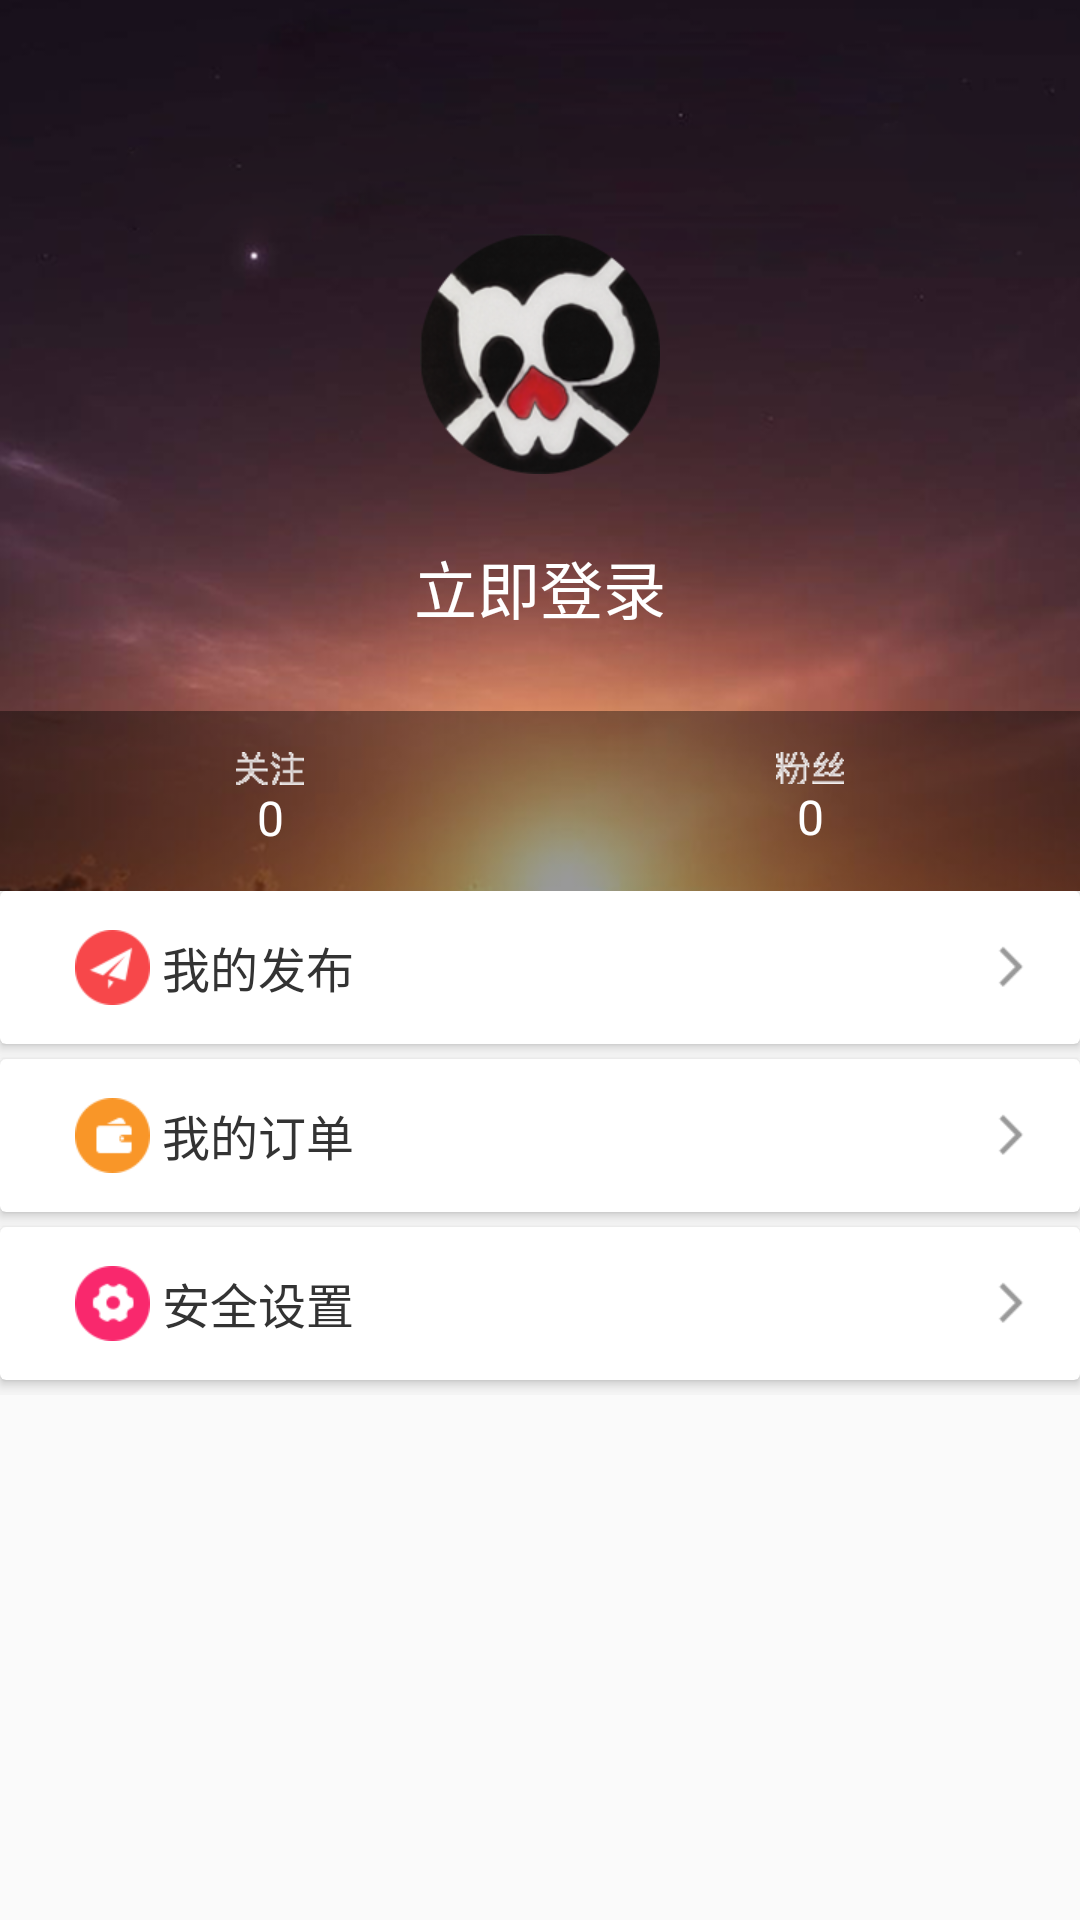

Point at icon controls on the screen. Image size 1080*1920, points as (x,y).
arrow right: (1010,967), (1010,1135), (1010,1303)
headimg: (540,354)
publish: (112,967)
security setting: (112,1303)
